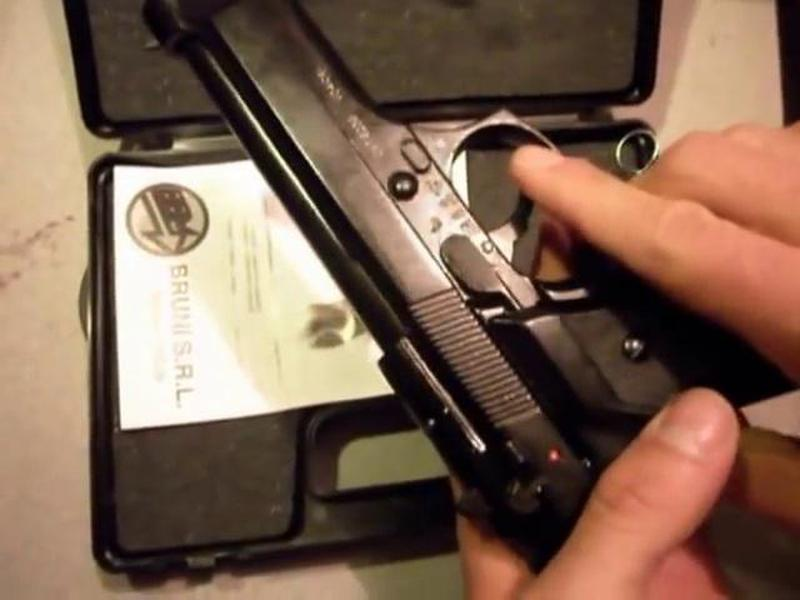Pistola: (153, 11, 775, 554)
